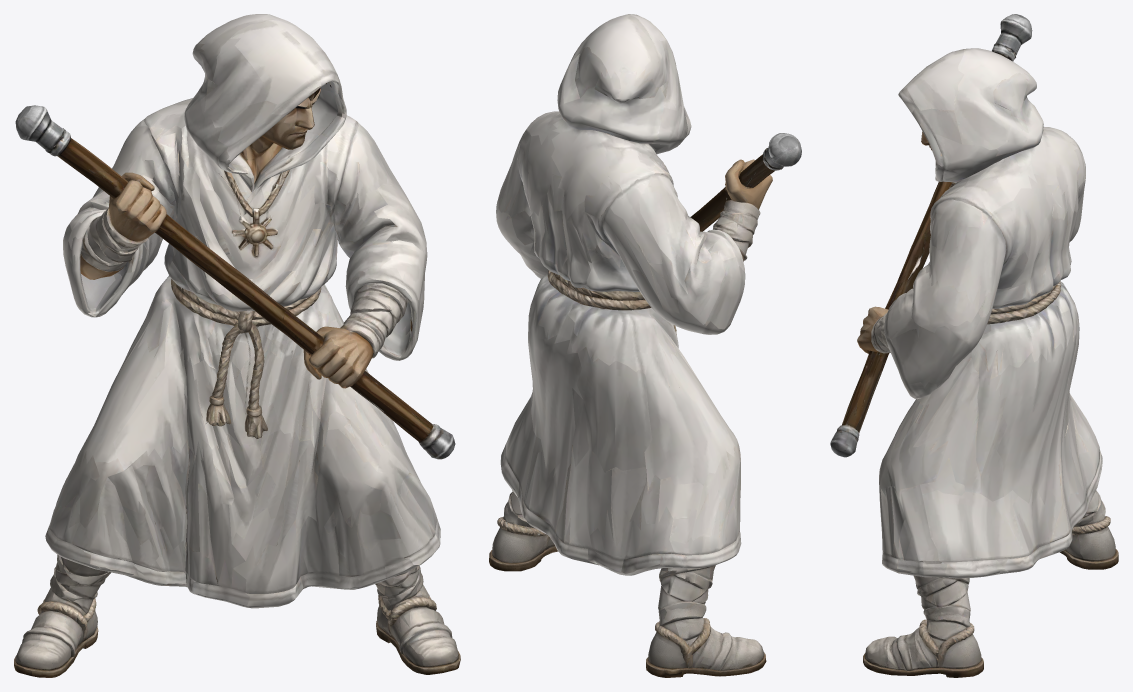
File: initiate_white.glb
The picture shows the model from 3 angles, left to right: view 1: azimuth 30°, elevation 25°; view 2: azimuth 150°, elevation 25°; view 3: azimuth 270°, elevation 25°; orthographic projection. The views are drawn at different scales.
Size of the model in its own units: 1.16 by 1.9 by 0.8874.
1 material, 1 textured.
